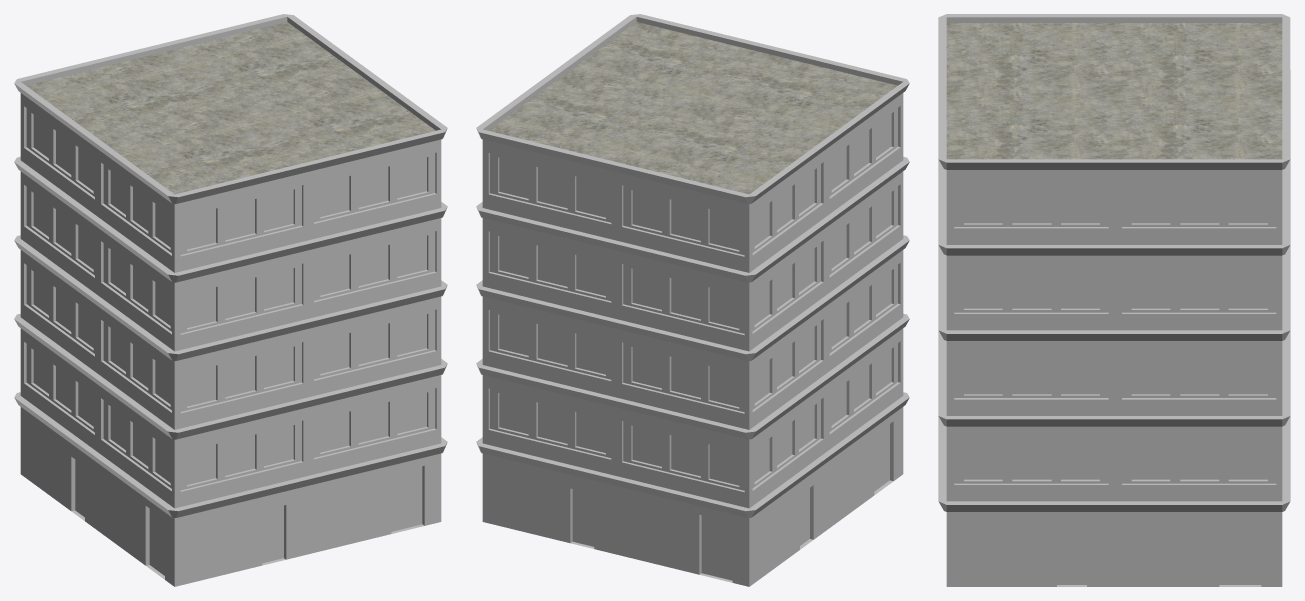
Rendered from DT_Building_Type_01_01.fbx.
3 renders of one model, left to right at view 1: azimuth 30°, elevation 25°; view 2: azimuth 150°, elevation 25°; view 3: azimuth 270°, elevation 25°, orthographic. The views are drawn at different scales.
Visible parts, largest first — view 1: DT_Building_Type_01_01; view 2: DT_Building_Type_01_01; view 3: DT_Building_Type_01_01.
Part boxes in pixels (x1,y1,x2,y2): DT_Building_Type_01_01: (14, 14, 447, 586); DT_Building_Type_01_01: (476, 14, 909, 586); DT_Building_Type_01_01: (938, 14, 1290, 586).
Size of the model in its own units: 1074 by 1440 by 1074.
